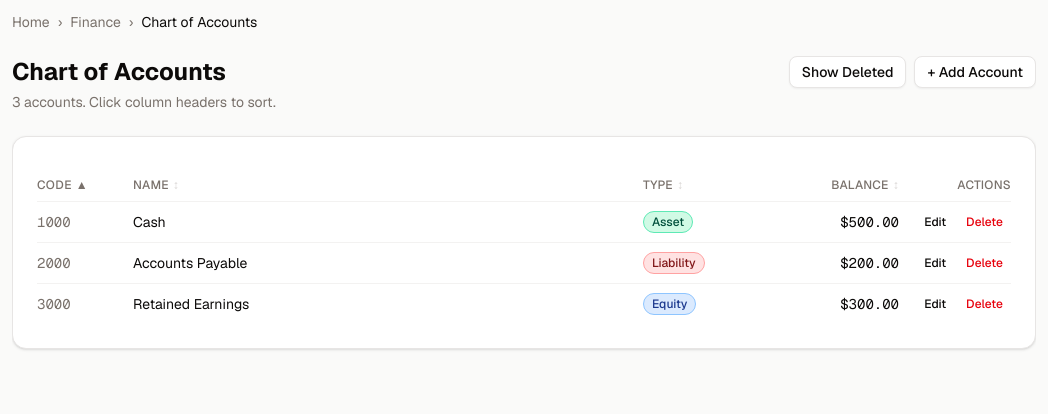
Test: ChartOfAccountsPage › opens and cancels add account form
Expected: the link "Cash" is shown, [133,213,166,231]
Step 1. Click the button "+ Add Account" → (975, 72), box [914,56,1036,88]
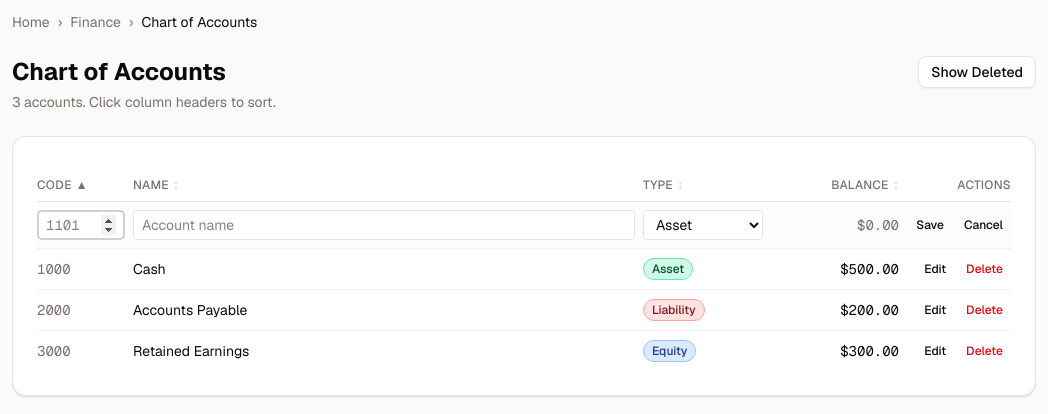
Now the number field with placeholder "1101" is shown, box [37,210,125,240]
Now the field with placeholder "Account name" is shown, box [133,210,635,240]
# Cancel hides the form
Step 2. Click the button "Cancel" → (983, 225), box [956,213,1011,237]
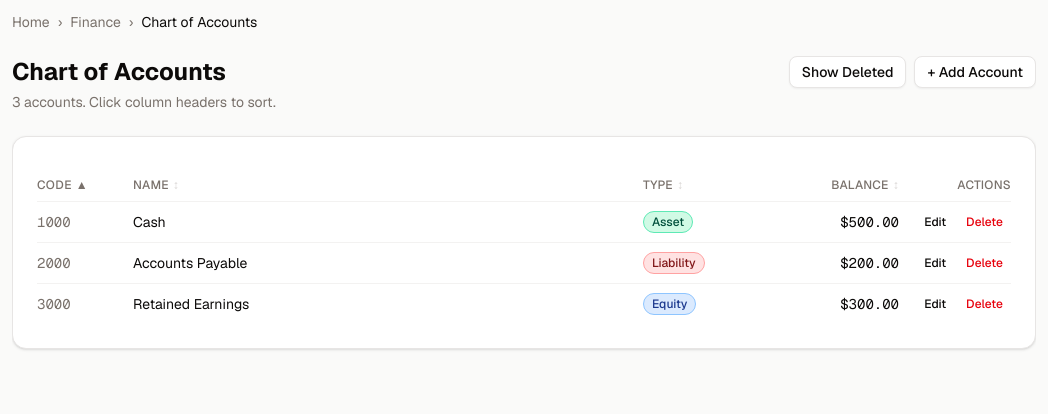
Now the number field with placeholder "1101" is gone
